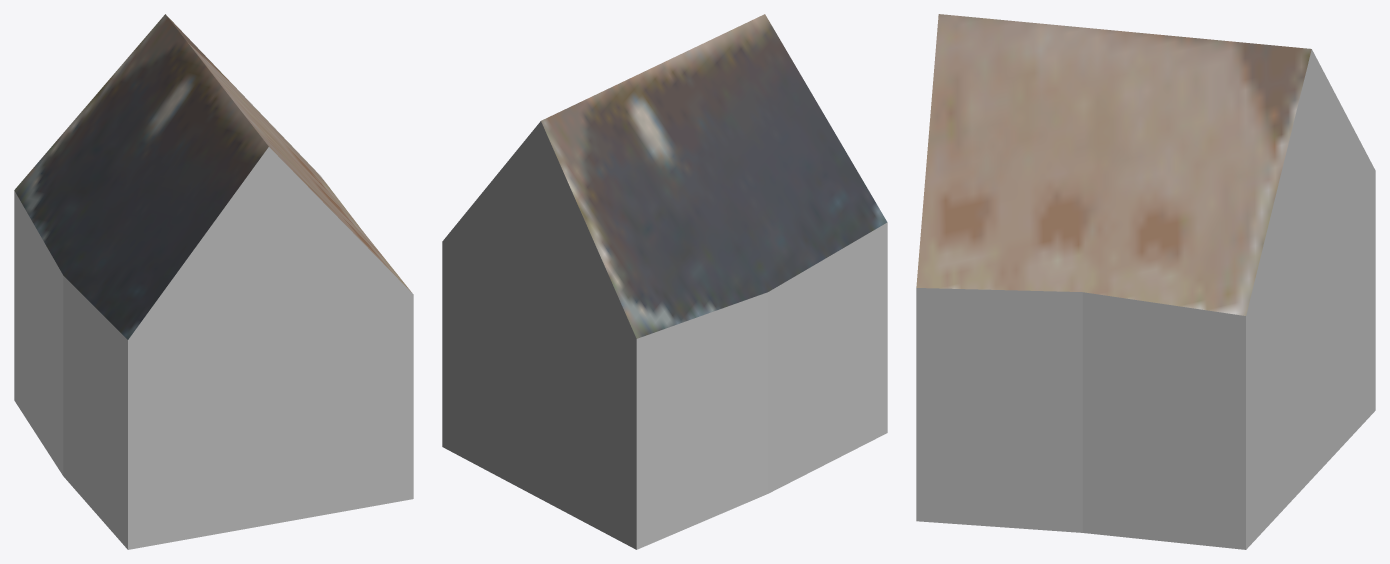
Rendered from DEBW_0010007Txfi.gltf.
3 renders of one model, left to right at view 1: azimuth 30°, elevation 25°; view 2: azimuth 150°, elevation 25°; view 3: azimuth 270°, elevation 25°, orthographic. The views are drawn at different scales.
Visible parts, largest first — view 1: Z_UP; view 2: Z_UP; view 3: Z_UP.
Boxes of the visible parts, <box> form: Z_UP: <box>14,14,413,549</box>; Z_UP: <box>442,14,887,549</box>; Z_UP: <box>916,14,1375,549</box>.
Size of the model in its own units: 11.92 by 13.54 by 13.05.
2 materials, 1 textured.
